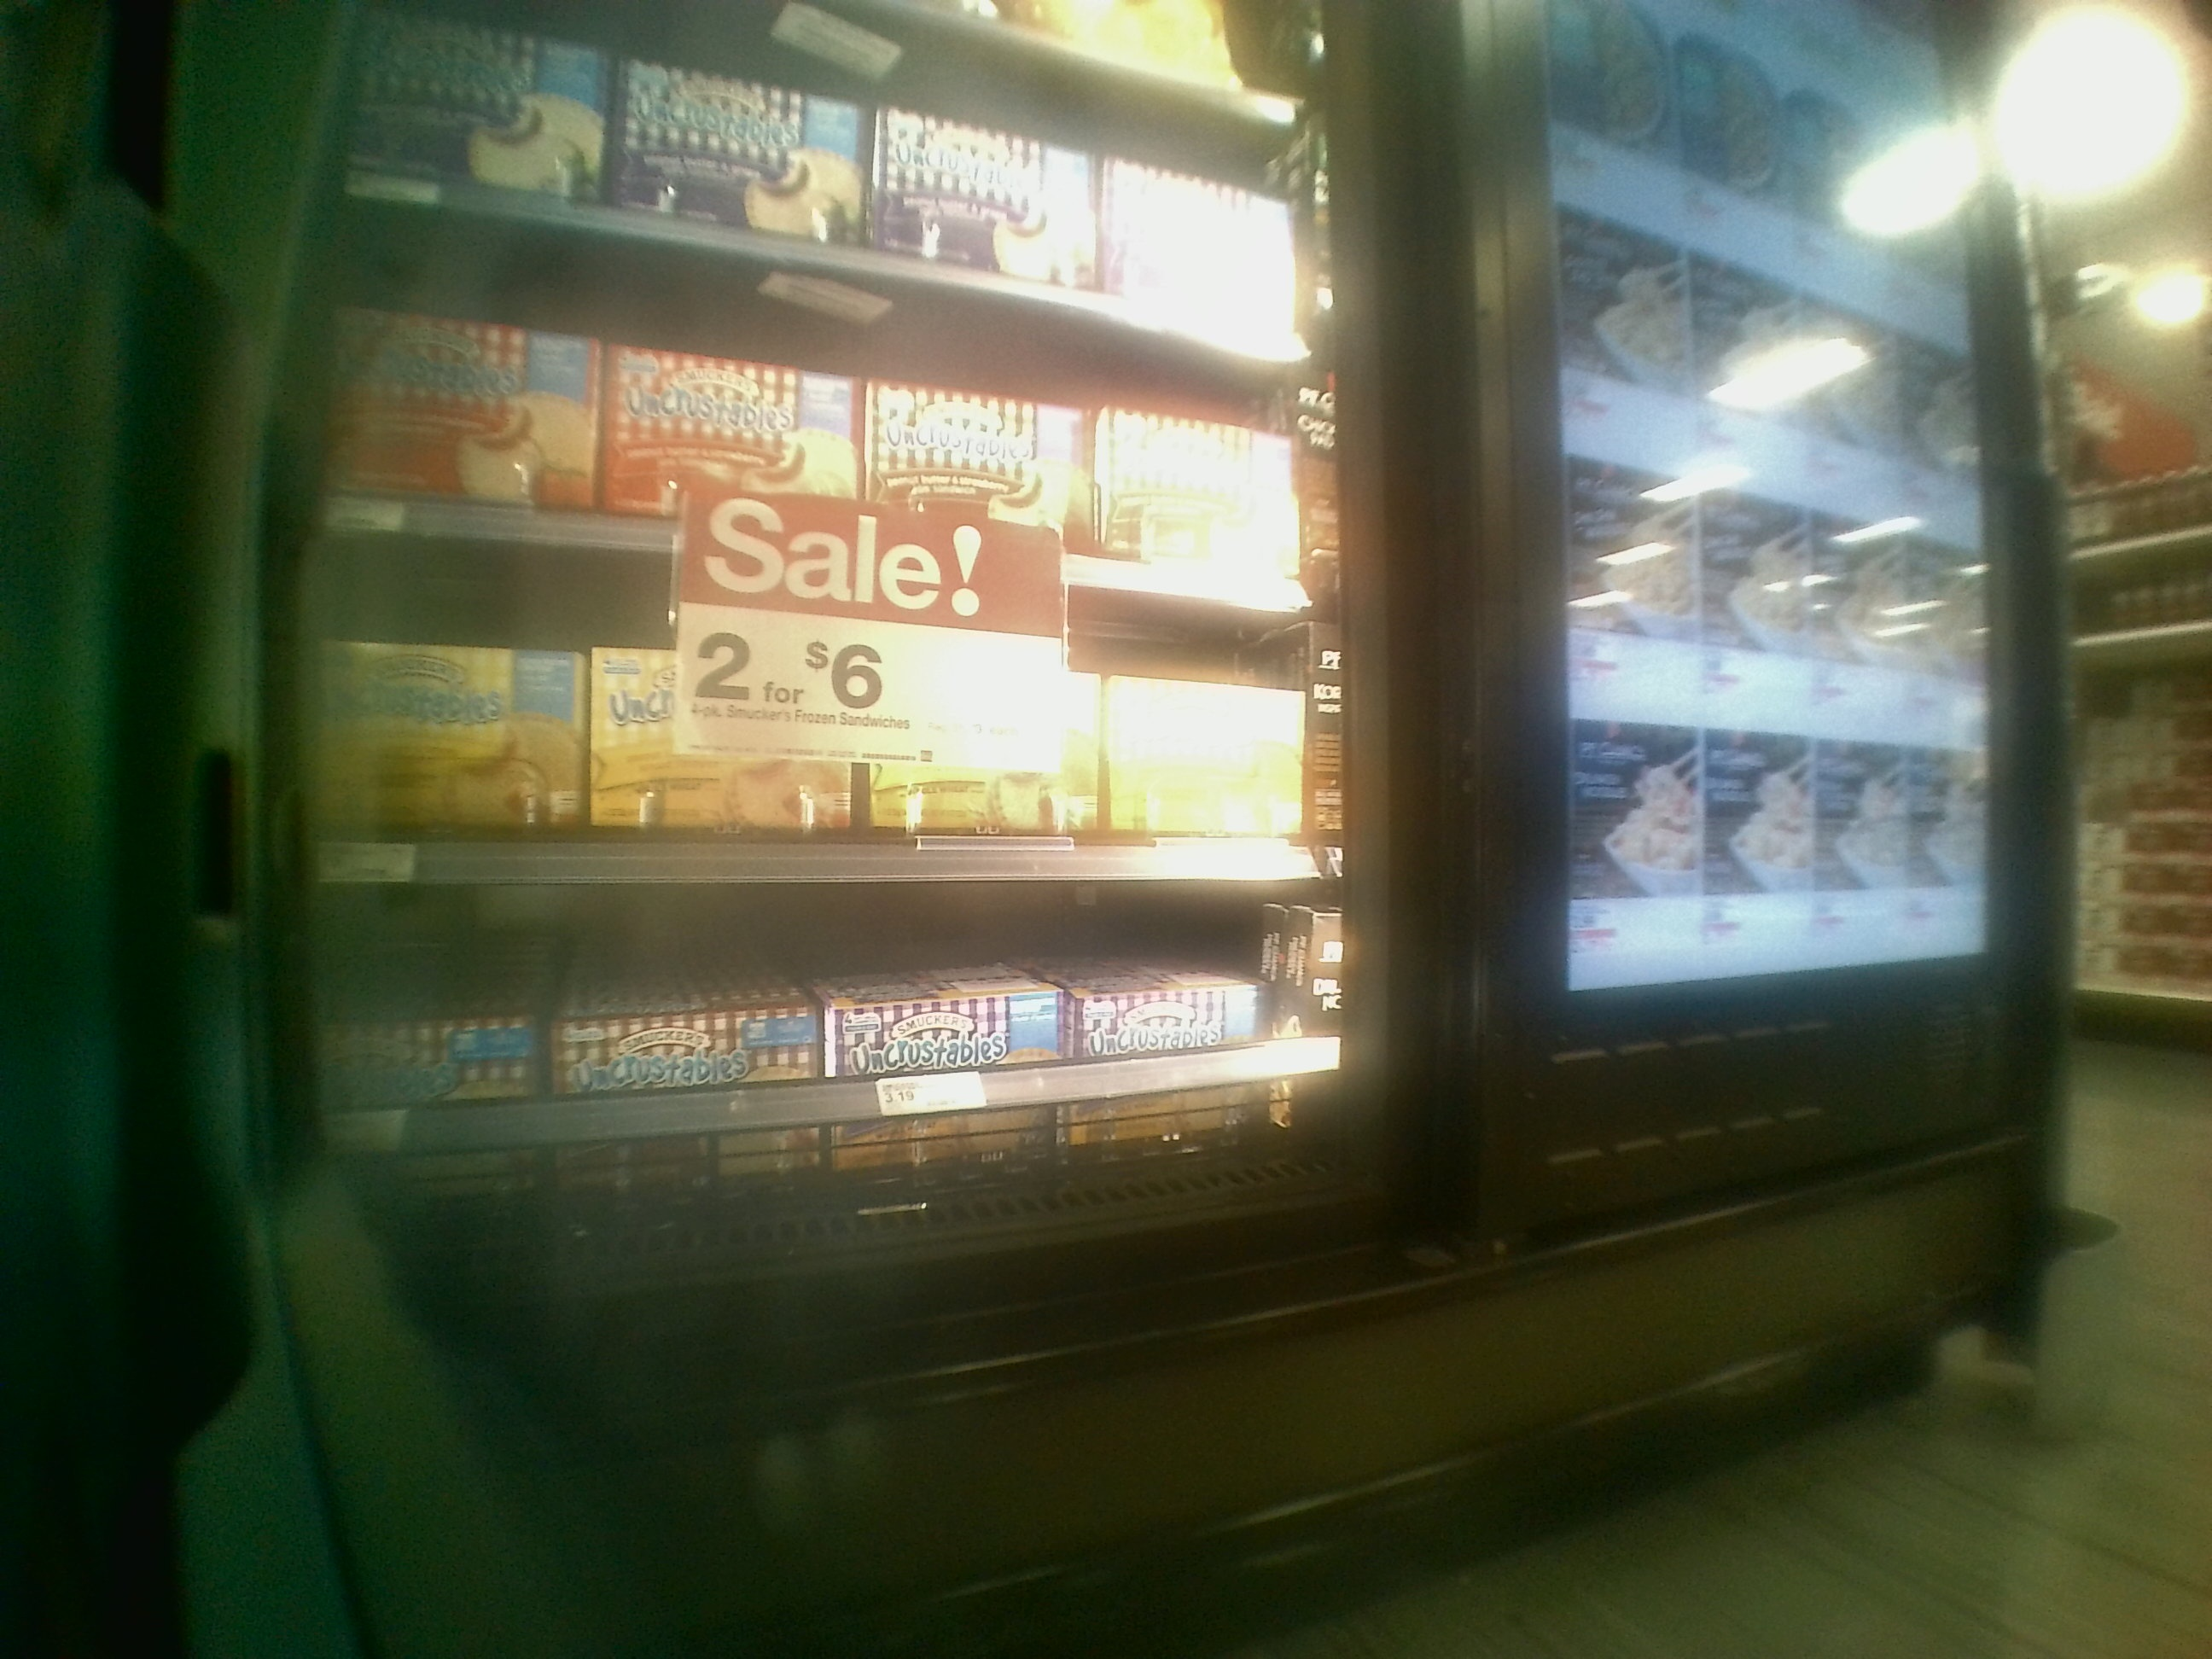shelf: (286, 256, 1313, 613), (265, 575, 1320, 892)
